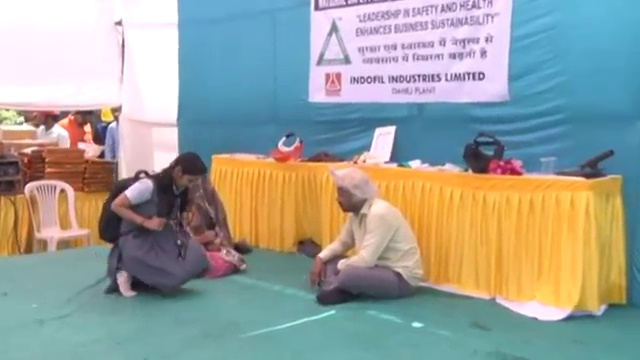helmet_off: (332, 169, 372, 212), (170, 151, 206, 191)
person: (306, 168, 424, 305), (103, 151, 206, 299), (178, 172, 251, 281), (58, 106, 97, 161), (35, 107, 71, 149), (103, 102, 123, 160)
